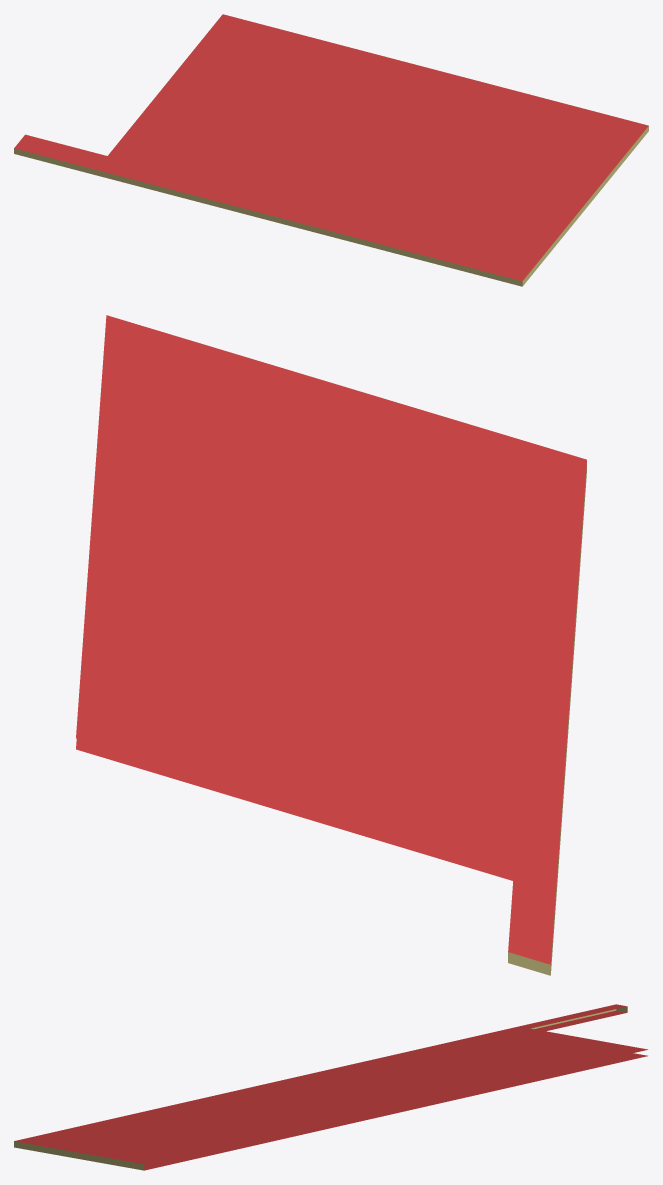
3 views of the same model, one above another, from view 1: azimuth 30°, elevation 25°; view 2: azimuth 150°, elevation 25°; view 3: azimuth 270°, elevation 25° (orthographic). The views are drawn at different scales.
Size of the model in its own units: 8.12 by 9.11 by 1.35.
